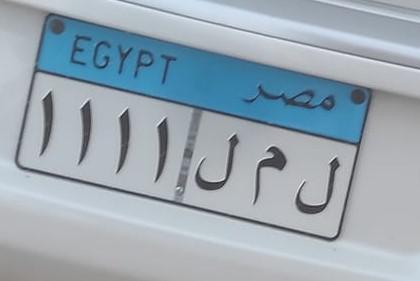1: (143, 107, 178, 180), (103, 105, 138, 171), (63, 98, 99, 162), (28, 90, 59, 152)
ل: (285, 145, 356, 221), (187, 129, 249, 194)
م: (233, 141, 292, 217)
